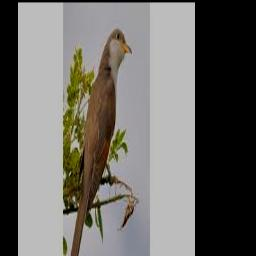Cuckoo: (66, 28, 131, 256)
